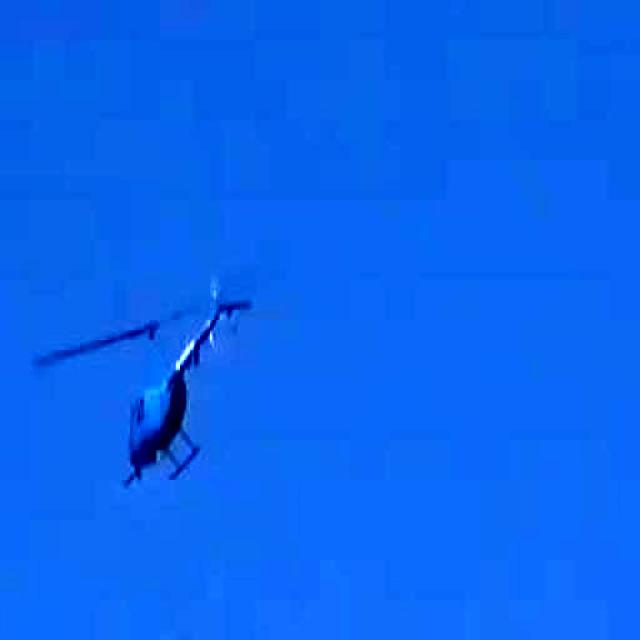drone: (6, 259, 294, 519)
